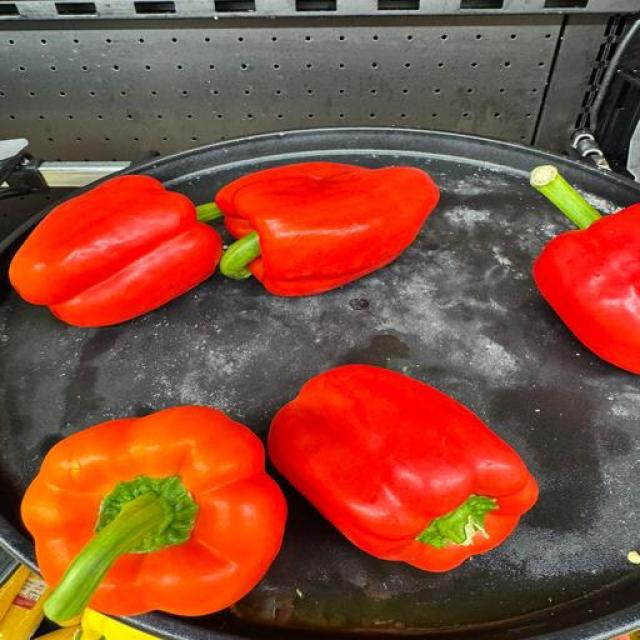organic: (269, 365, 537, 571), (22, 407, 286, 616), (9, 175, 222, 326), (217, 163, 438, 296), (530, 165, 639, 373), (44, 477, 197, 622), (533, 204, 639, 373), (215, 162, 361, 237), (95, 475, 197, 552), (530, 165, 601, 228), (417, 495, 497, 548), (220, 232, 261, 279), (197, 203, 223, 222)
